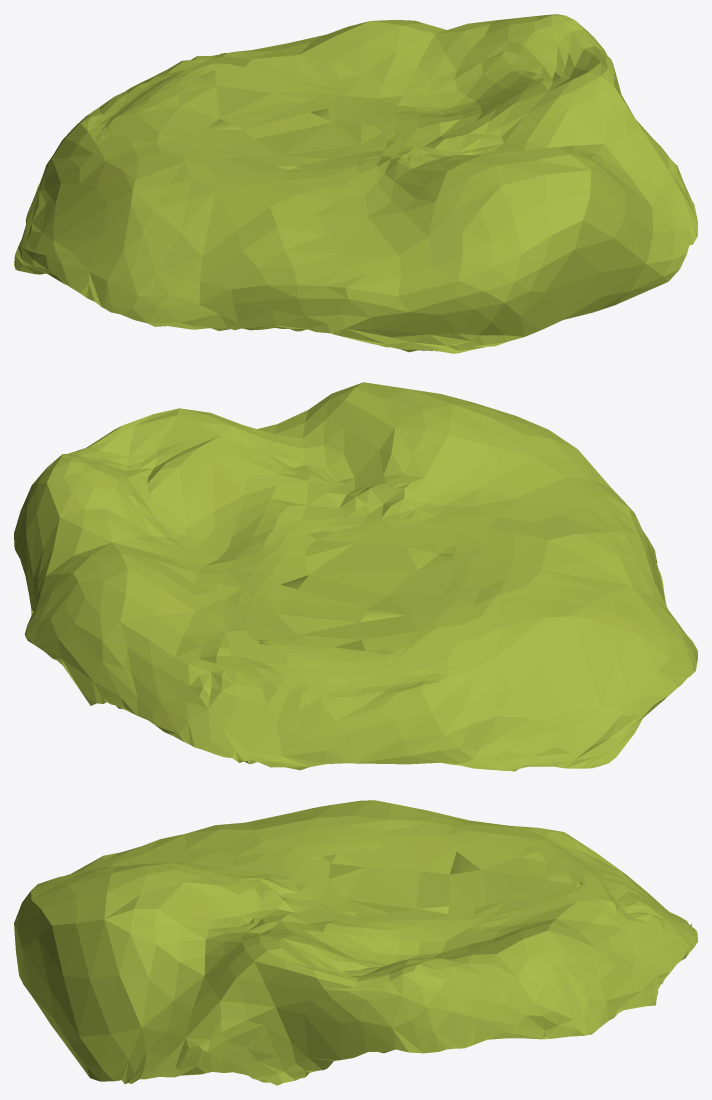
The model's file is hill_009.glb.
The picture shows the model from 3 angles, top to bottom: view 1: azimuth 30°, elevation 25°; view 2: azimuth 150°, elevation 25°; view 3: azimuth 270°, elevation 25°; orthographic projection. The views are drawn at different scales.
Parts seen in each view (by area): view 1: hill_009; view 2: hill_009; view 3: hill_009.
Boxes of the visible parts, left/top/right/bottom form: hill_009: left=14, top=14, right=697, bottom=353; hill_009: left=14, top=382, right=697, bottom=771; hill_009: left=14, top=800, right=697, bottom=1085.
Size of the model in its own units: 94.56 by 22.58 by 97.96.
Materials: 1 (1 with a texture image).
